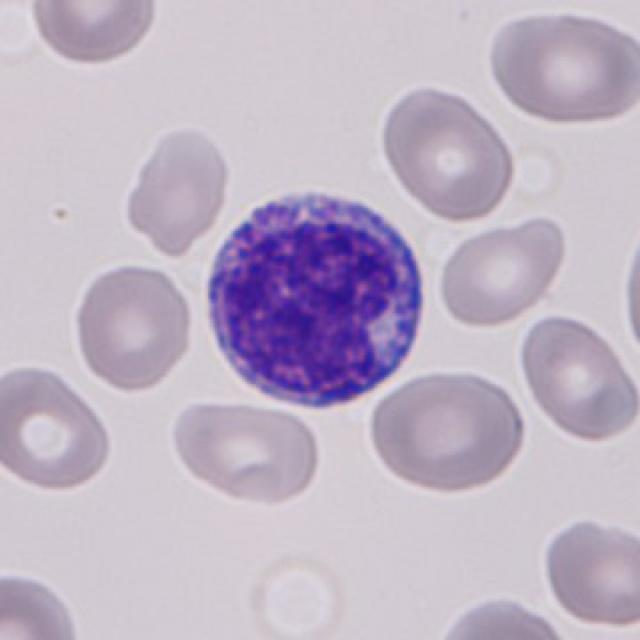Lymphocyte: (196, 178, 434, 420)
RBC: (364, 364, 530, 498), (375, 80, 516, 219), (486, 7, 639, 126), (167, 397, 325, 511), (68, 258, 198, 395), (516, 310, 638, 447), (434, 212, 571, 331), (119, 119, 233, 261), (0, 359, 116, 496), (537, 510, 640, 631), (238, 546, 354, 640), (421, 590, 583, 638), (28, 2, 160, 59), (0, 565, 87, 640), (617, 196, 640, 372), (2, 0, 55, 71)
